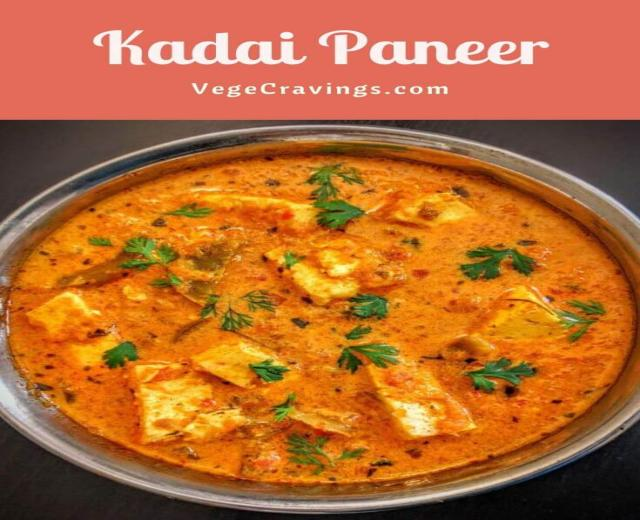kadai paneer: (9, 152, 637, 484), (2, 368, 639, 520), (6, 120, 639, 238)
